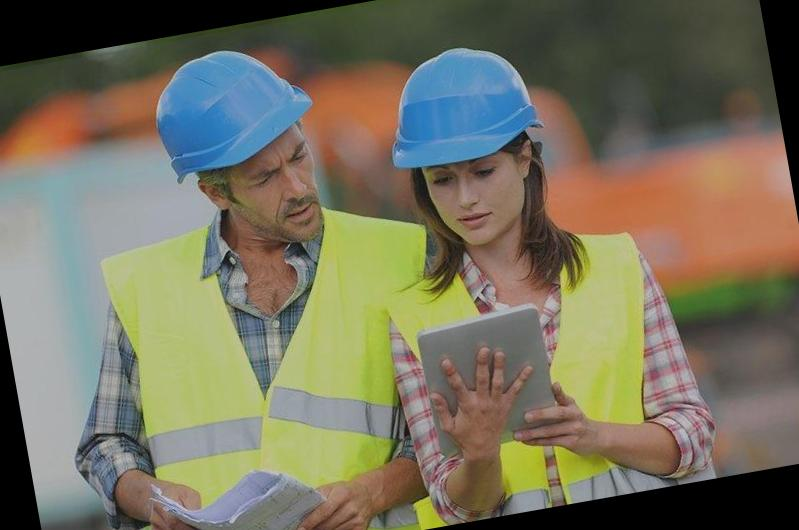Vest: (93, 198, 439, 530), (372, 212, 678, 502)
